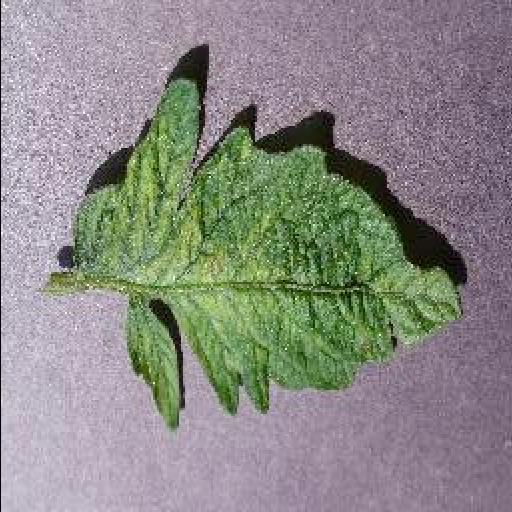disease_tomato: (68, 76, 468, 434)
